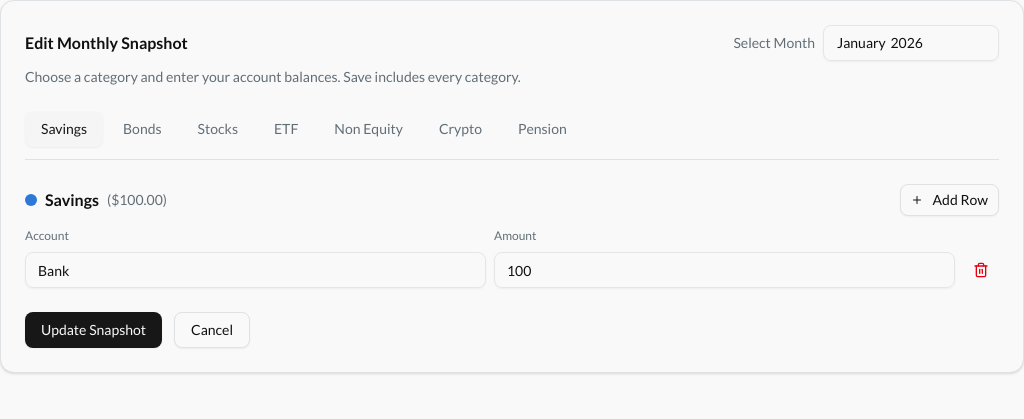
Test: reveals a hidden category containing a validation error instead of silently blocking save
This screenshot has width=1024, height=419.
Click the button "Stocks" at coordinates (218, 129), box top-left (182, 111), bottom-right (254, 147)
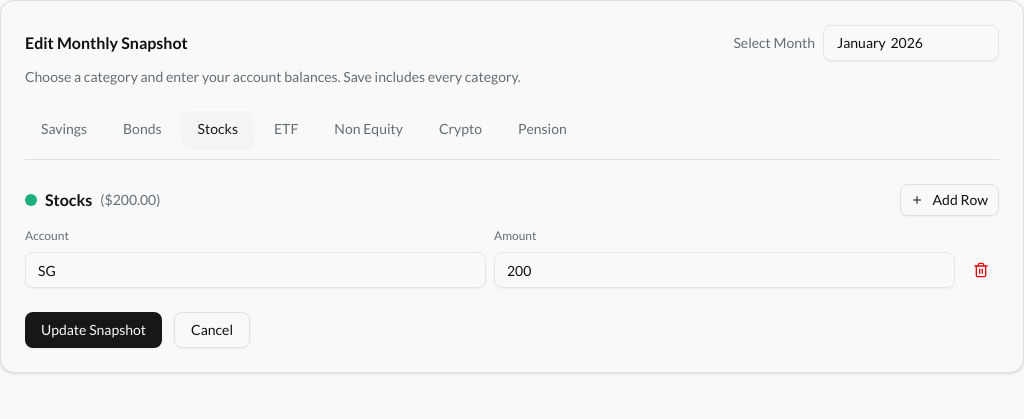
Replace the text in the number field with "-1" at coordinates (724, 270), box top-left (494, 252), bottom-right (955, 288)
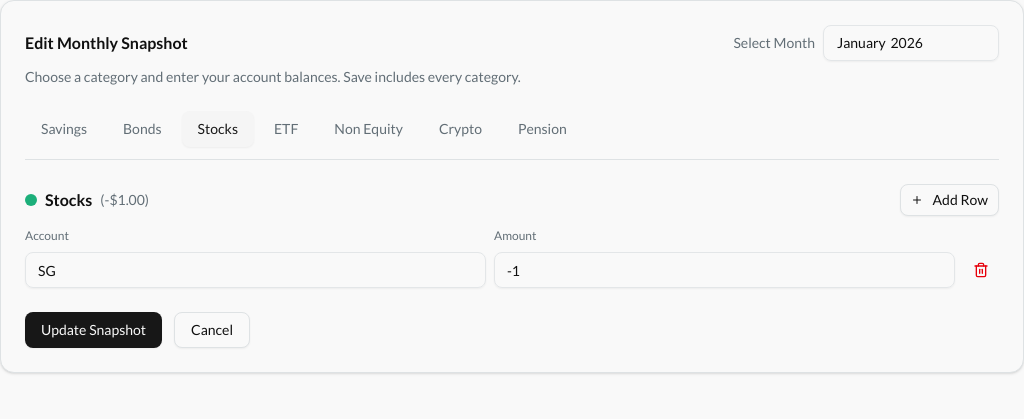
Click the button "Savings" at coordinates (64, 129), box top-left (25, 111), bottom-right (103, 147)
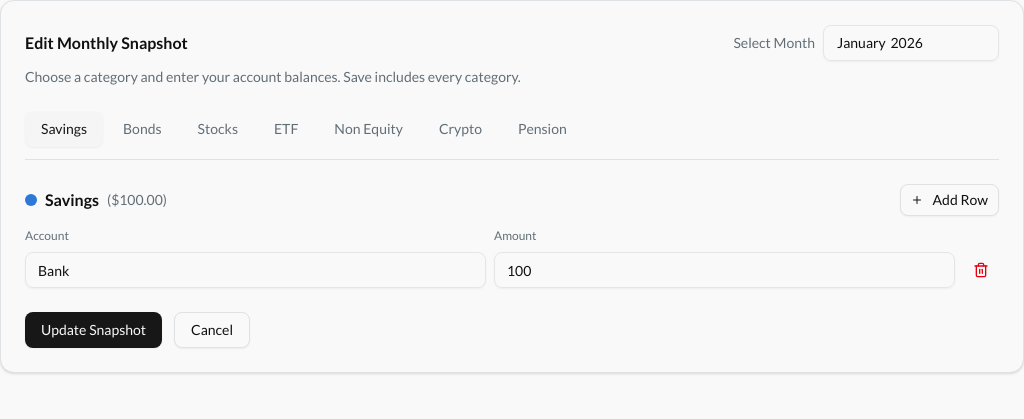
Click the button "Update Snapshot" at coordinates (94, 330), box top-left (25, 312), bottom-right (162, 348)
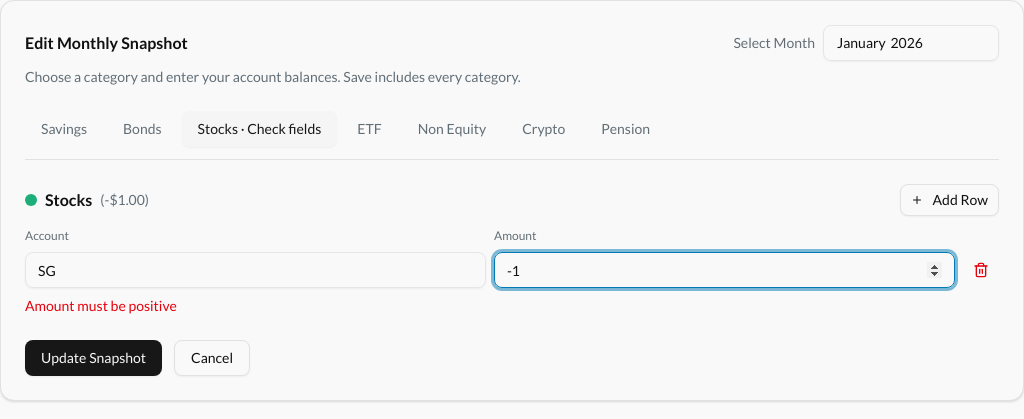
Expected: the text "Amount must be positive" is shown, top-left (25, 297), bottom-right (177, 314)
